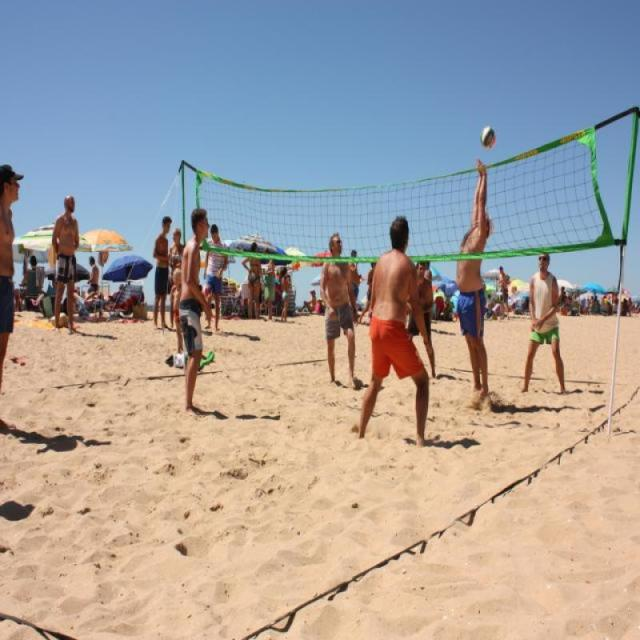volleyball: (480, 125, 496, 150)
